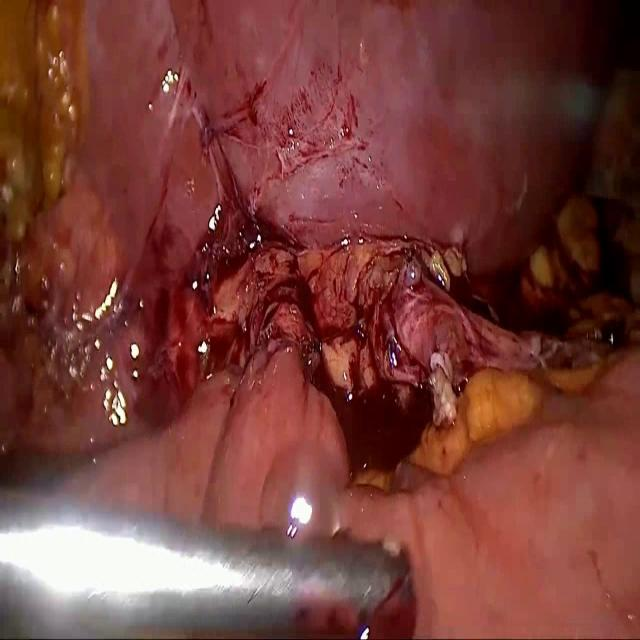surgical-tool: (0, 484, 412, 639)
